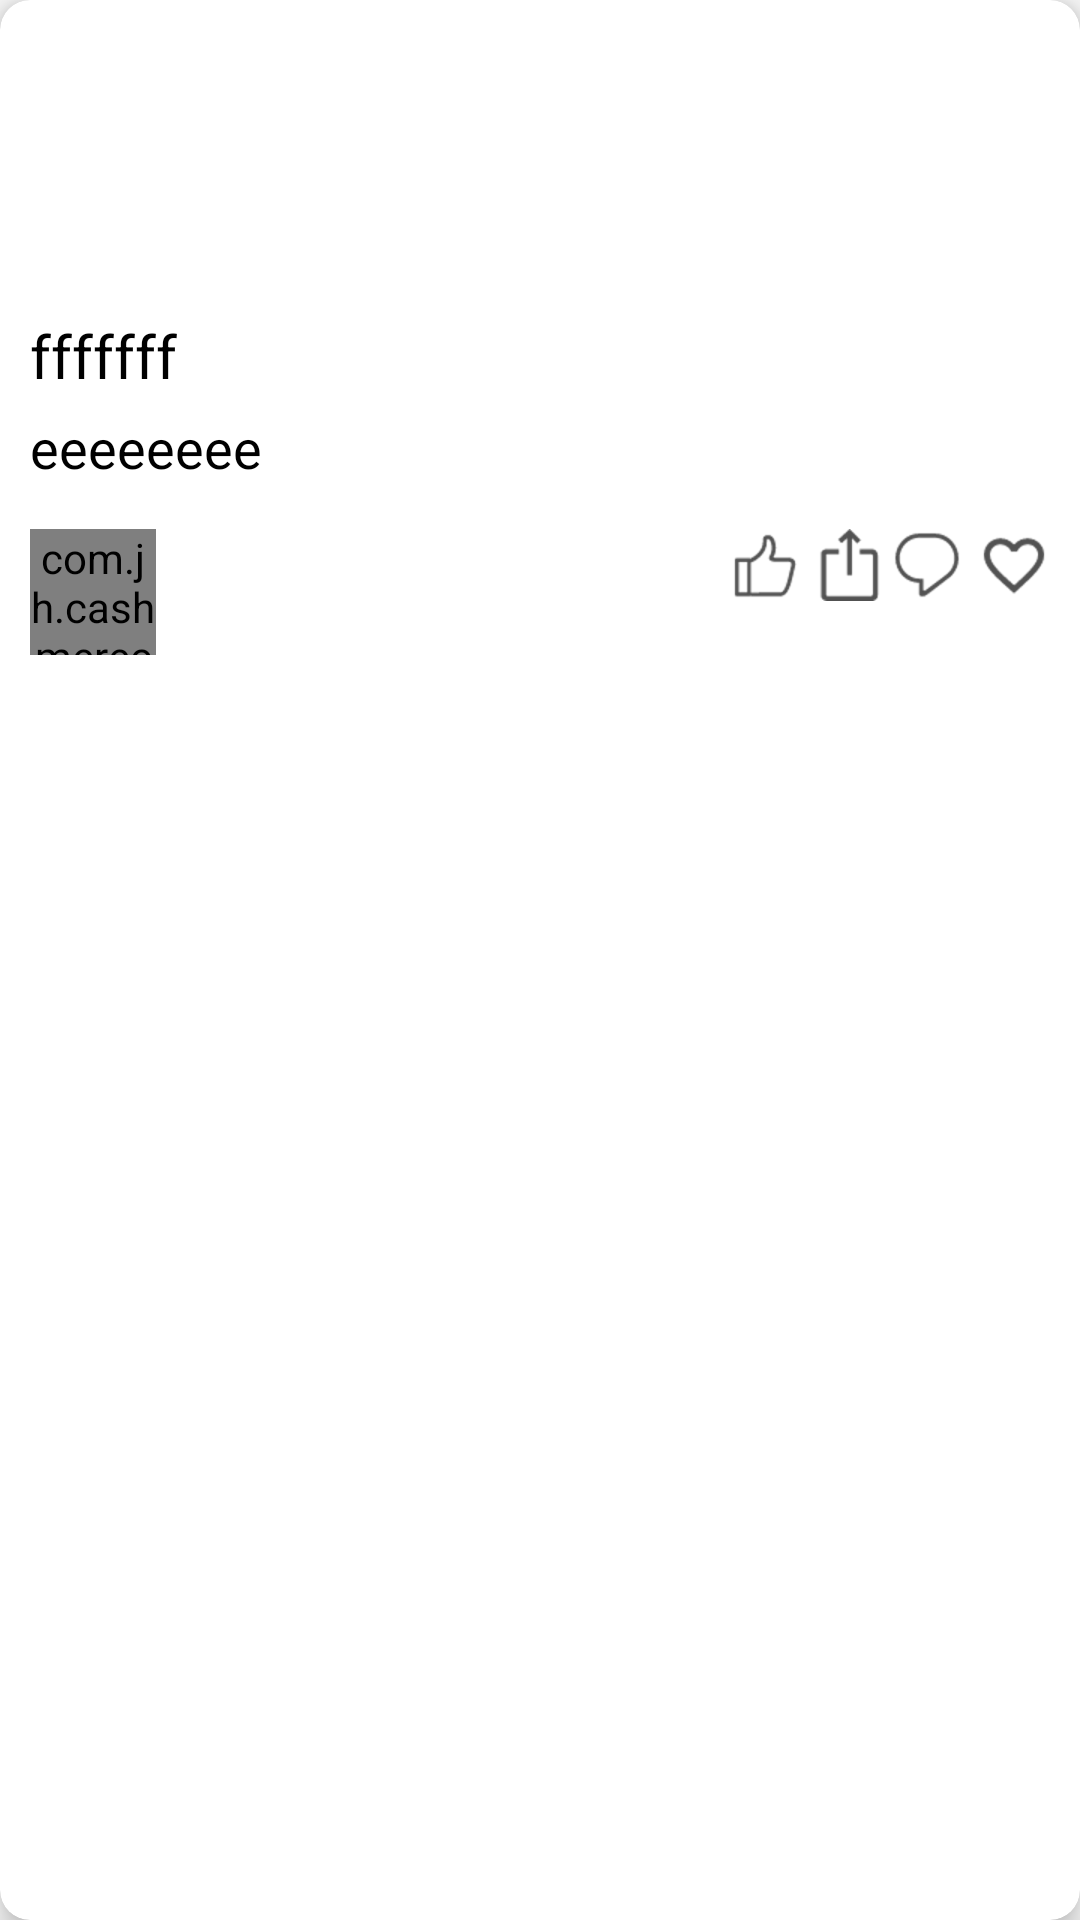

Screen size 1080w x 1920h. Icon name, then its box in pixels as box=[x1, y1, x2, y2]:
collect no: box=[983, 538, 1045, 594]
comment: box=[895, 533, 959, 597]
support: box=[734, 535, 796, 597]
